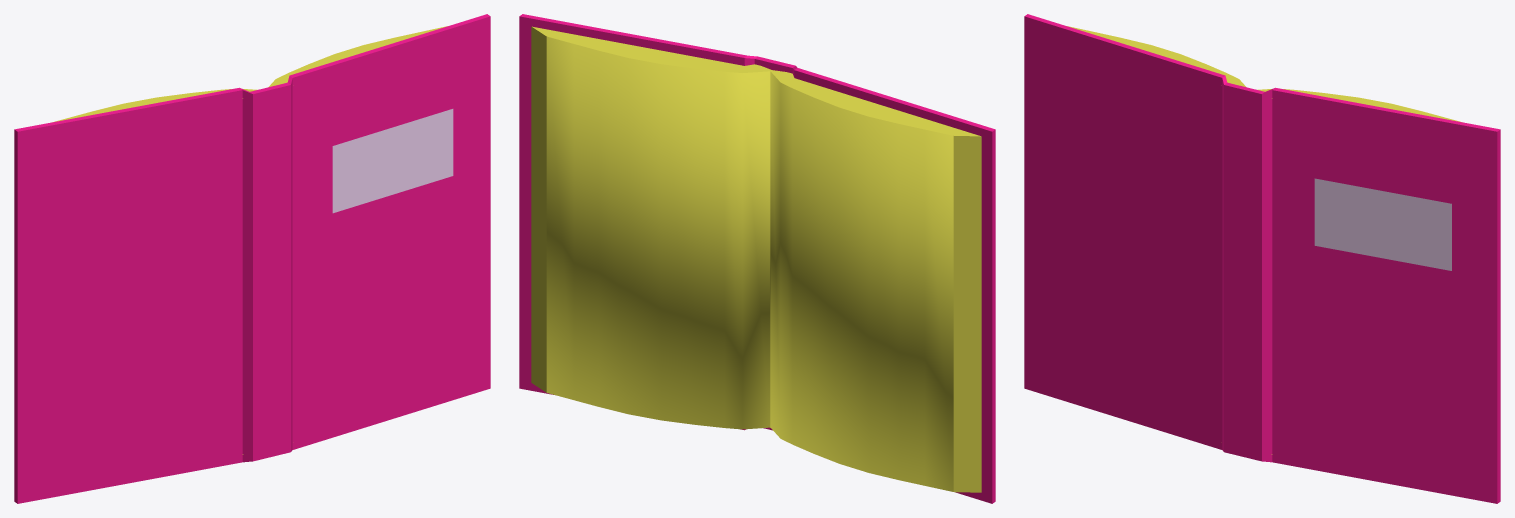
The model's file is book.fbx.
3 views of the same model, side by side, from view 1: azimuth 30°, elevation 25°; view 2: azimuth 150°, elevation 25°; view 3: azimuth 330°, elevation 25° (orthographic).
Visible parts, largest first — view 1: book; view 2: book; view 3: book.
Boxes of the visible parts, x1=… form: book: x1=14, y1=14, x2=490, y2=503; book: x1=519, y1=14, x2=995, y2=503; book: x1=1024, y1=14, x2=1500, y2=503.
Size of the model in its own units: 332 by 249 by 34.44.
